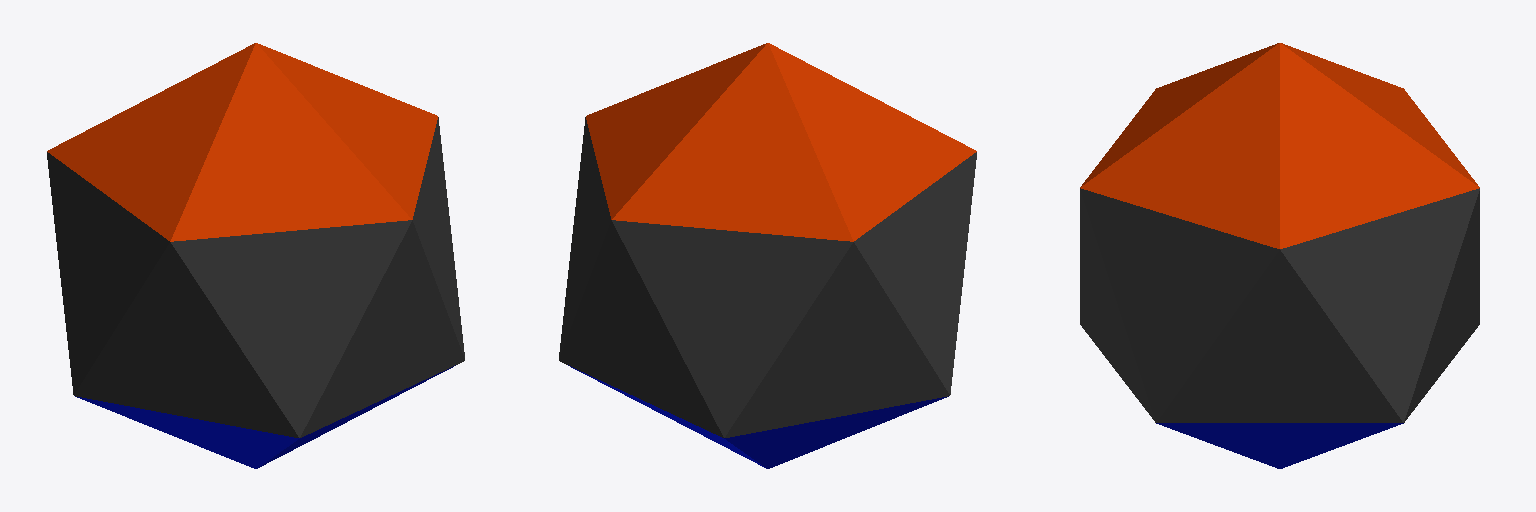
File: ico.obj
The picture shows the model from 3 angles: view 1: azimuth 30°, elevation 25°; view 2: azimuth 150°, elevation 25°; view 3: azimuth 270°, elevation 25°; orthographic projection.
Visible parts, largest first — view 1: Icosphere.003, Icosphere.007, Icosphere.014, Icosphere.008, Icosphere.004, Icosphere.013, Icosphere, Icosphere.002, Icosphere.012, Icosphere.011; view 2: Icosphere.005, Icosphere.009, Icosphere.019, Icosphere.008, Icosphere.004, Icosphere.018, Icosphere.010, Icosphere.006, Icosphere.016, Icosphere.001; view 3: Icosphere.017, Icosphere.006, Icosphere.002, Icosphere.010, Icosphere, Icosphere.015, Icosphere.018, Icosphere.013, Icosphere.009, Icosphere.007.
Part boxes in pixels (left/top/right/bottom): Icosphere.003: left=171, top=220, right=411, bottom=437; Icosphere.007: left=170, top=43, right=411, bottom=241; Icosphere.014: left=74, top=242, right=298, bottom=437; Icosphere.008: left=47, top=43, right=255, bottom=240; Icosphere.004: left=47, top=152, right=169, bottom=394; Icosphere.013: left=300, top=220, right=464, bottom=437; Icosphere: left=257, top=43, right=437, bottom=219; Icosphere.002: left=413, top=117, right=464, bottom=357; Icosphere.012: left=75, top=396, right=299, bottom=468; Icosphere.011: left=257, top=365, right=455, bottom=468; Icosphere.005: left=612, top=220, right=852, bottom=437; Icosphere.009: left=612, top=43, right=853, bottom=241; Icosphere.019: left=725, top=242, right=949, bottom=437; Icosphere.008: left=768, top=43, right=976, bottom=240; Icosphere.004: left=854, top=152, right=976, bottom=394; Icosphere.018: left=559, top=220, right=723, bottom=437; Icosphere.010: left=586, top=43, right=766, bottom=219; Icosphere.006: left=559, top=117, right=610, bottom=357; Icosphere.016: left=724, top=396, right=948, bottom=468; Icosphere.001: left=568, top=365, right=766, bottom=468; Icosphere.017: left=1157, top=250, right=1402, bottom=422; Icosphere.006: left=1280, top=188, right=1479, bottom=422; Icosphere.002: left=1080, top=188, right=1279, bottom=422; Icosphere.010: left=1280, top=43, right=1479, bottom=248; Icosphere: left=1080, top=43, right=1279, bottom=248; Icosphere.015: left=1156, top=423, right=1403, bottom=468; Icosphere.018: left=1404, top=191, right=1479, bottom=422; Icosphere.013: left=1080, top=191, right=1155, bottom=422; Icosphere.009: left=1281, top=43, right=1478, bottom=186; Icosphere.007: left=1081, top=43, right=1278, bottom=186.
Bounding box in the file's own units: 1.79 × 2 × 1.7.